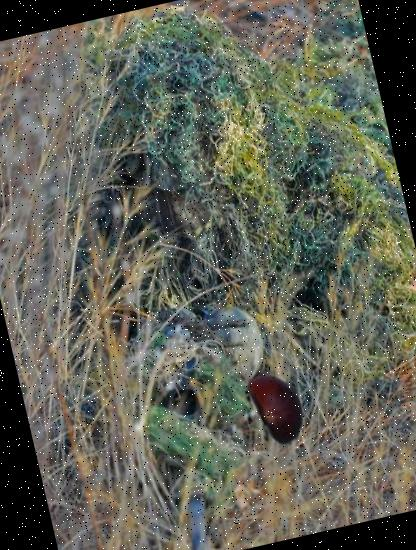Chestnut: (233, 360, 325, 452)
